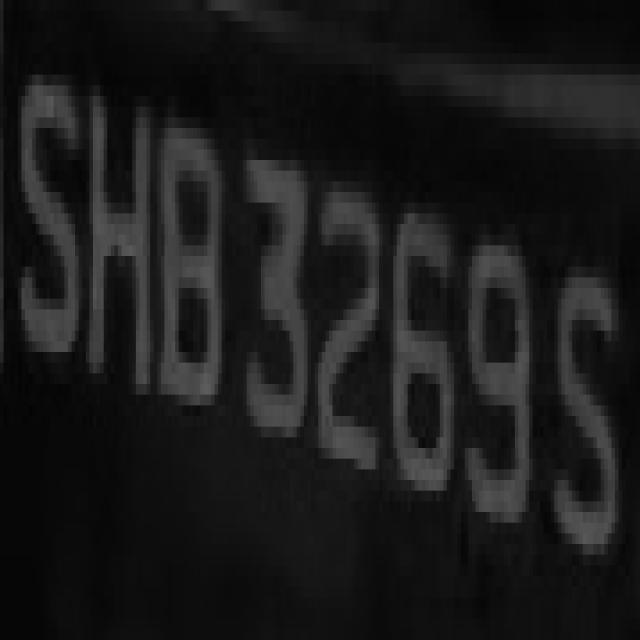2: (311, 128, 390, 533)
3: (236, 107, 315, 501)
6: (386, 160, 461, 544)
9: (454, 192, 536, 587)
B: (154, 85, 229, 448)
H: (90, 53, 158, 427)
S: (547, 203, 626, 608), (11, 11, 86, 373)
